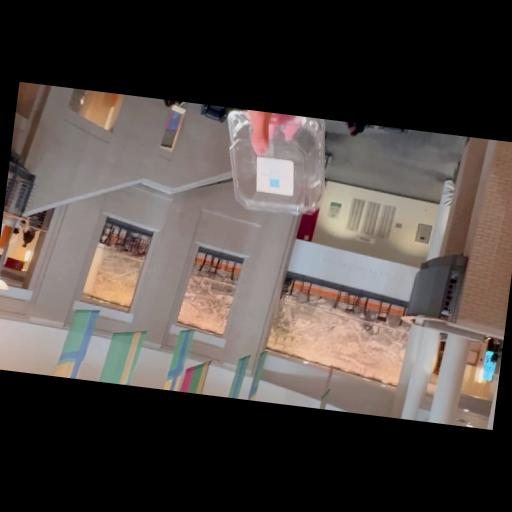small_plastic_container: (202, 106, 338, 222)
